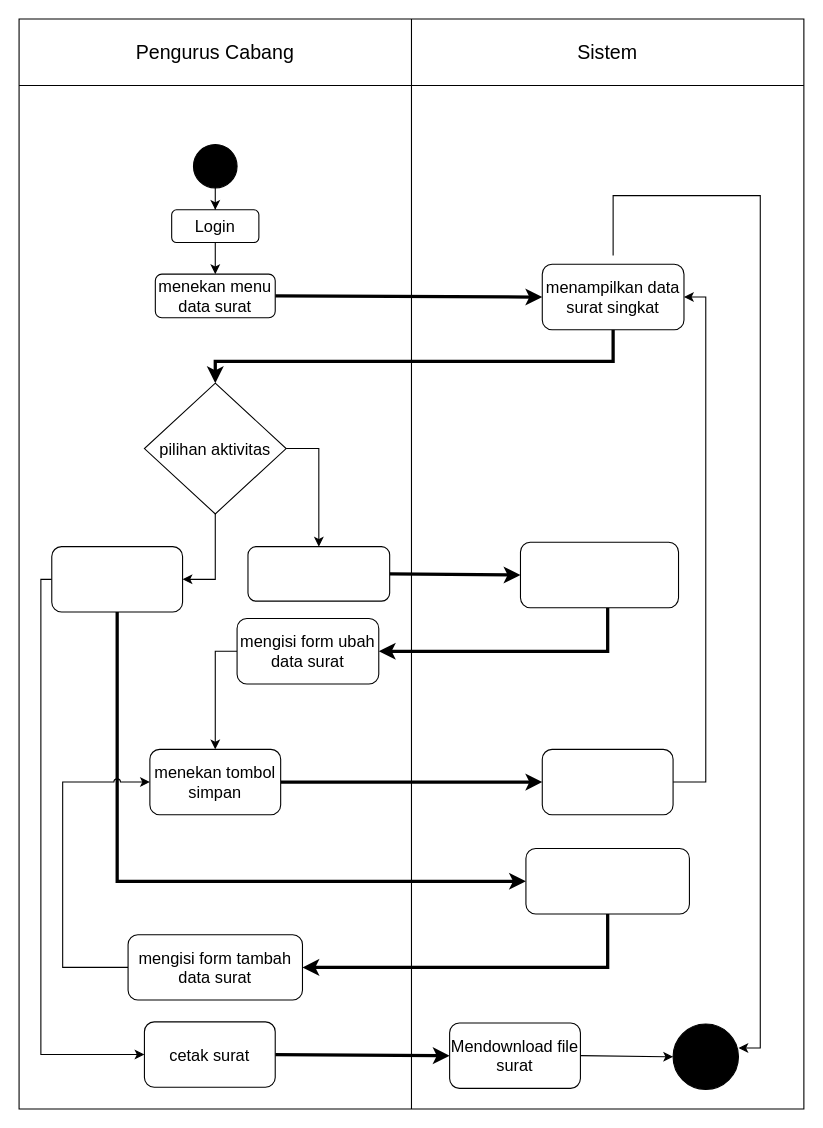
Image size: 823x1128. Some labels were removed from this diagram. Each missing label, with the centre of its shape:
menampilkan form tambah data surat: point (607, 880)
menampilkan form ubah data surat: point (599, 574)
proses simpan: point (607, 781)
tambah data surat: point (117, 579)
ubah data surat: point (318, 573)
